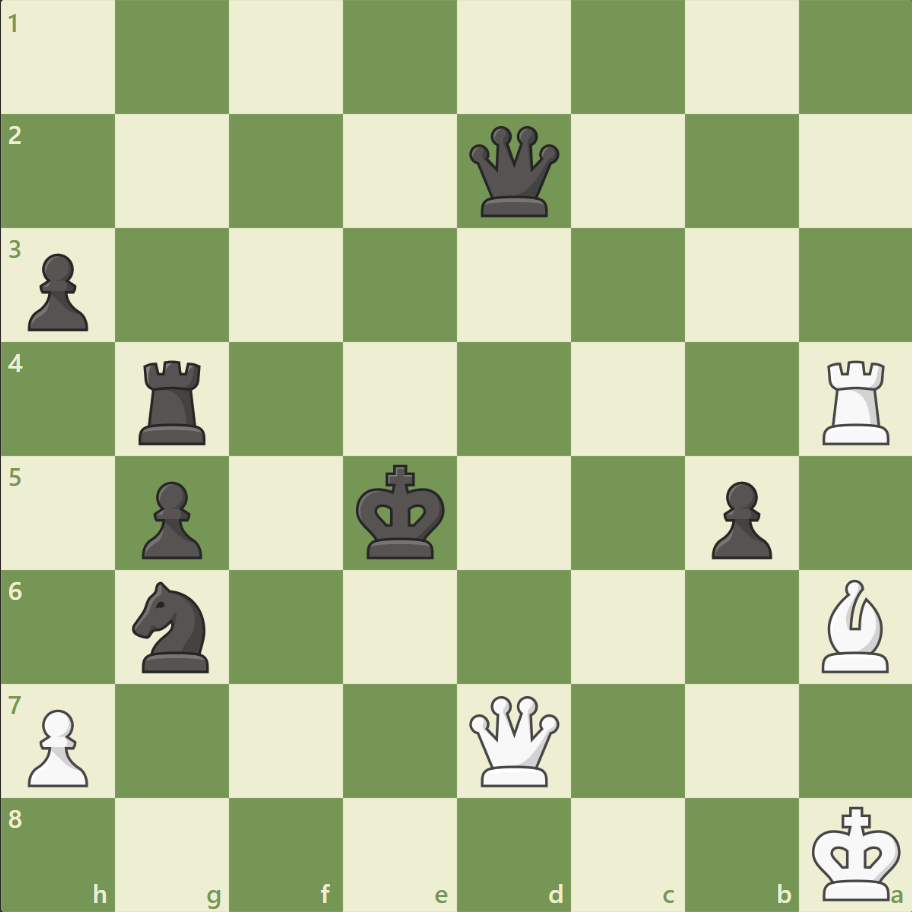B: (812, 574, 896, 676)
K: (806, 798, 906, 906)
P: (20, 700, 95, 791)
Q: (464, 690, 563, 789)
R: (814, 352, 897, 449)
k: (351, 458, 451, 566)
n: (124, 575, 222, 677)
p: (701, 473, 776, 564), (133, 473, 208, 564), (20, 246, 95, 337)
q: (464, 122, 563, 222)
r: (133, 352, 215, 449)
